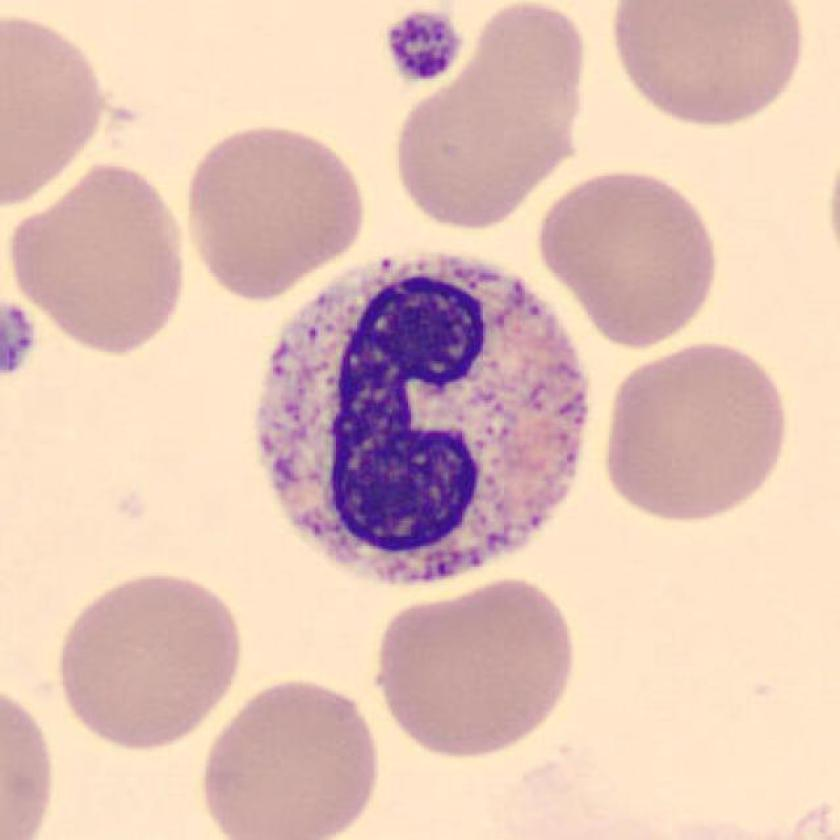neutrophil: (258, 257, 588, 584)
